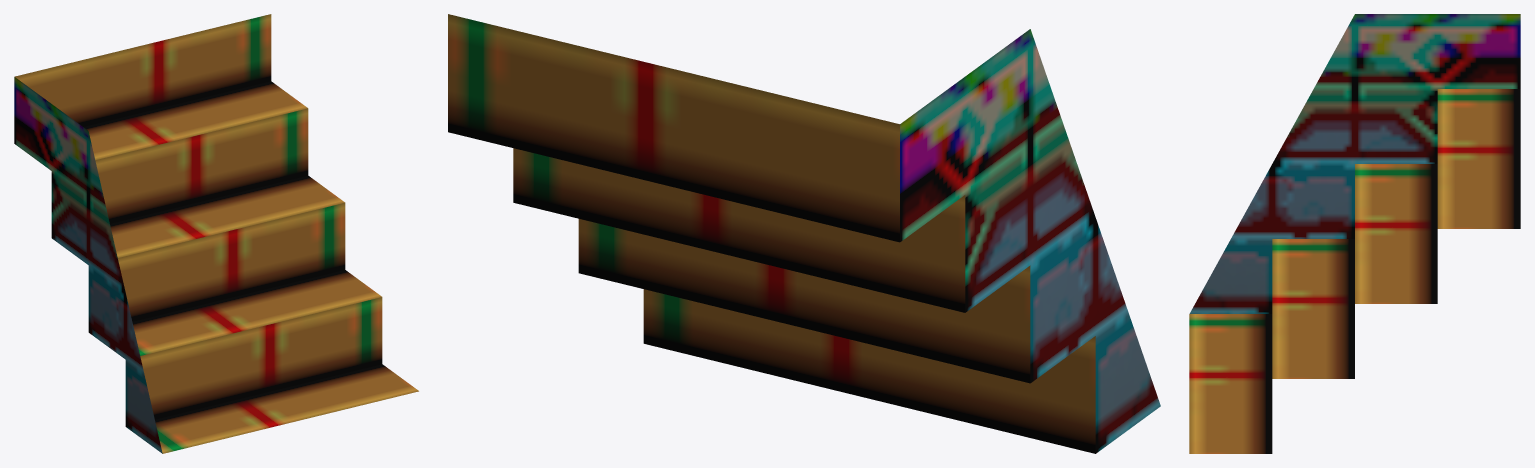
The model's file is arch_cathedral_stairs_wallLeft.FBX.
3 renders of one model, left to right at view 1: azimuth 30°, elevation 25°; view 2: azimuth 150°, elevation 25°; view 3: azimuth 270°, elevation 25°, orthographic. The views are drawn at different scales.
Visible parts, largest first — view 1: arch_cathedral_stairs_wallLeft; view 2: arch_cathedral_stairs_wallLeft; view 3: arch_cathedral_stairs_wallLeft.
Part boxes in pixels (left/top/right/bottom): arch_cathedral_stairs_wallLeft: left=14, top=14, right=418, bottom=453; arch_cathedral_stairs_wallLeft: left=448, top=14, right=1160, bottom=453; arch_cathedral_stairs_wallLeft: left=1189, top=14, right=1520, bottom=453.
Bounding box in the file's own units: 2 × 2 × 2.
1 material, 1 textured.
